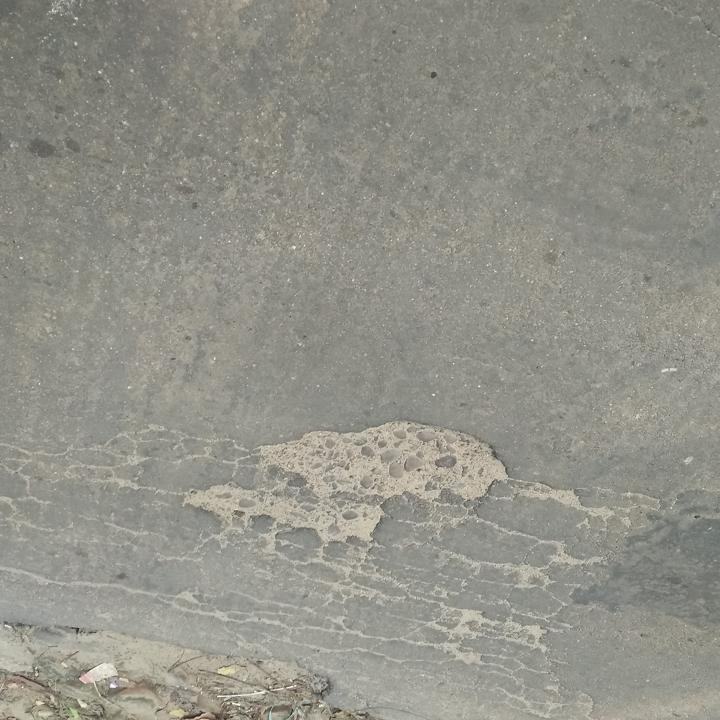pothole: (175, 418, 513, 549)
